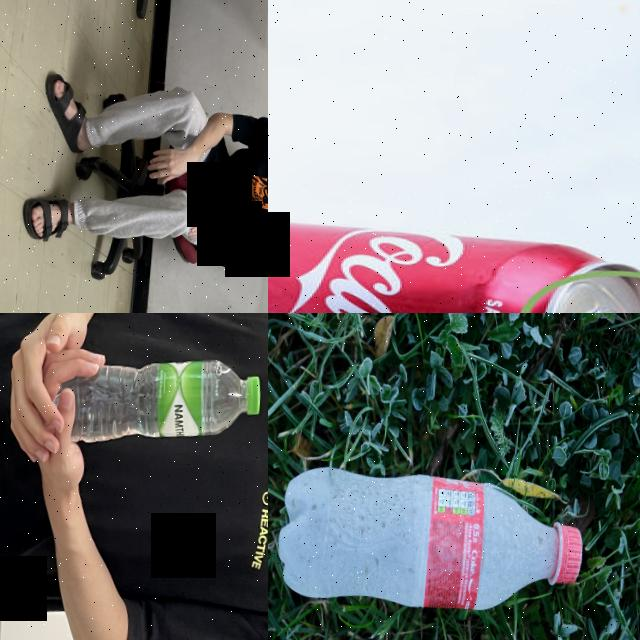bottle: (272, 464, 586, 620), (50, 349, 266, 453)
can: (268, 208, 640, 313)
